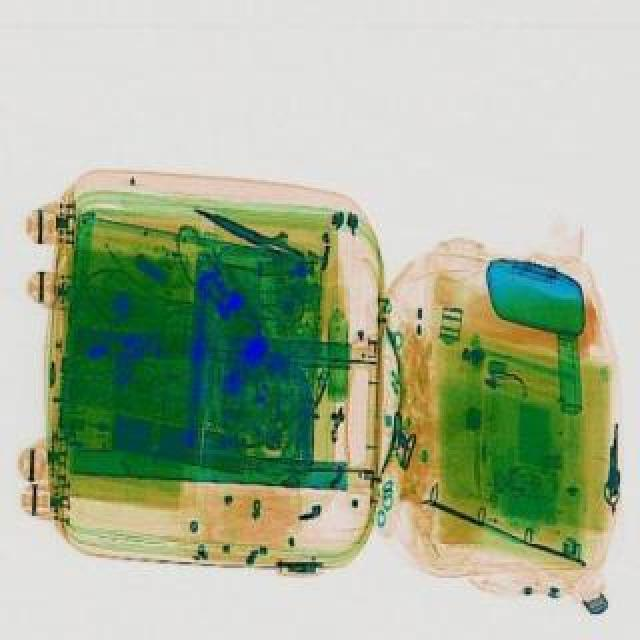knife: (192, 194, 314, 266)
